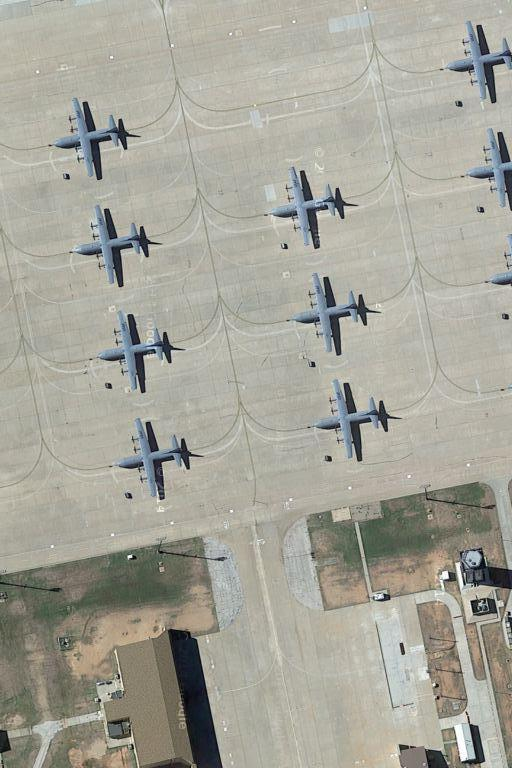C-130: (115, 411, 198, 501), (270, 162, 352, 251), (313, 375, 393, 462), (95, 309, 175, 396), (74, 202, 152, 289), (59, 97, 133, 185), (294, 271, 369, 354), (449, 19, 511, 108), (467, 123, 510, 210)
